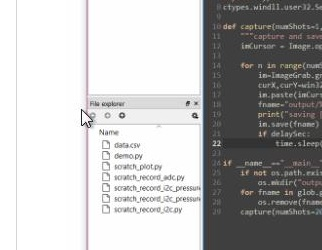cursor: (79, 108, 93, 129)
